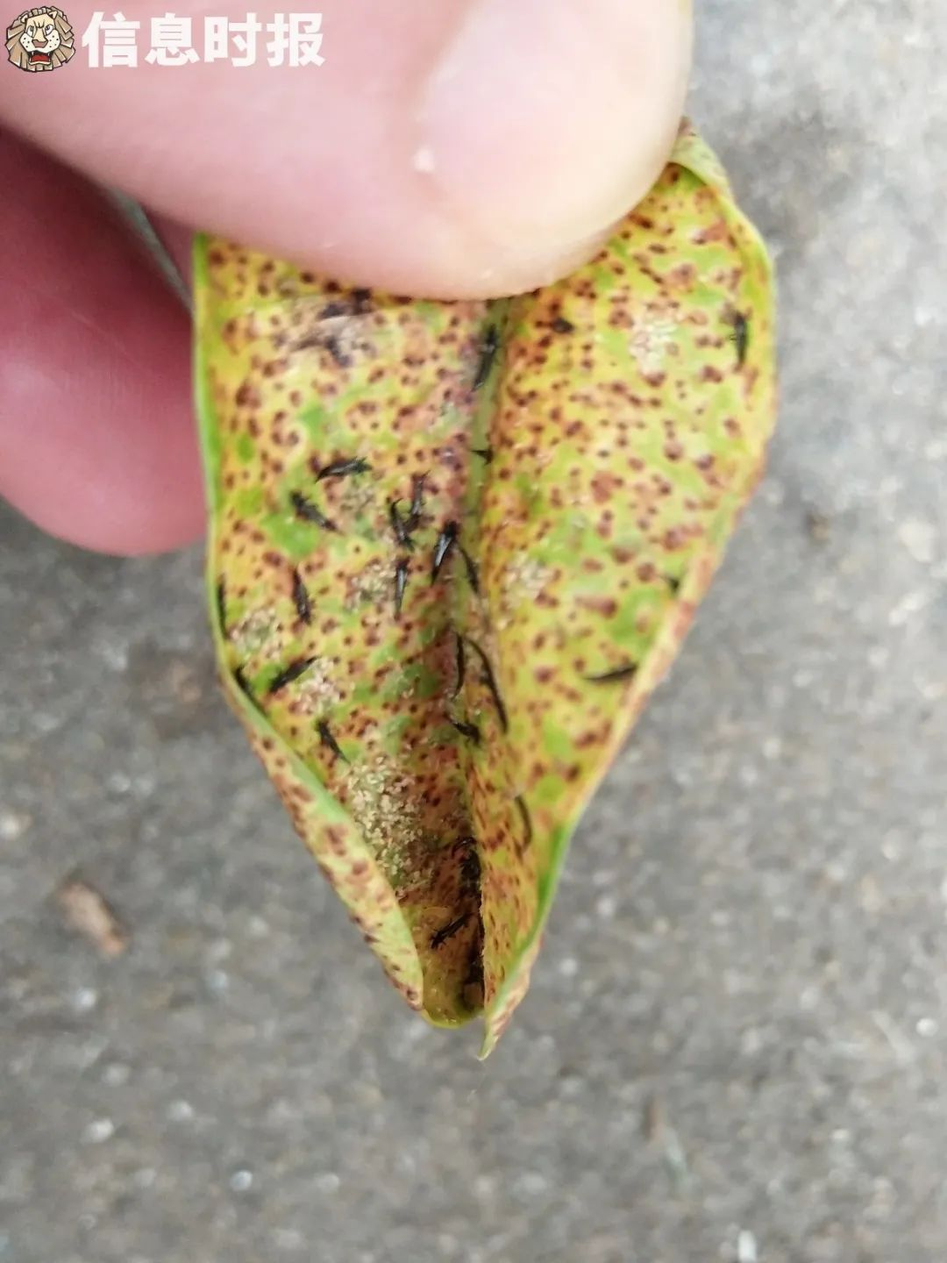Phlaeothripidae: (465, 312, 517, 403), (410, 895, 488, 955), (261, 647, 317, 702), (309, 452, 382, 494), (424, 514, 465, 587), (284, 491, 346, 539), (305, 710, 362, 762), (387, 549, 422, 627), (385, 482, 422, 552), (282, 569, 322, 631), (725, 306, 758, 367), (447, 640, 470, 707), (580, 657, 642, 681)
